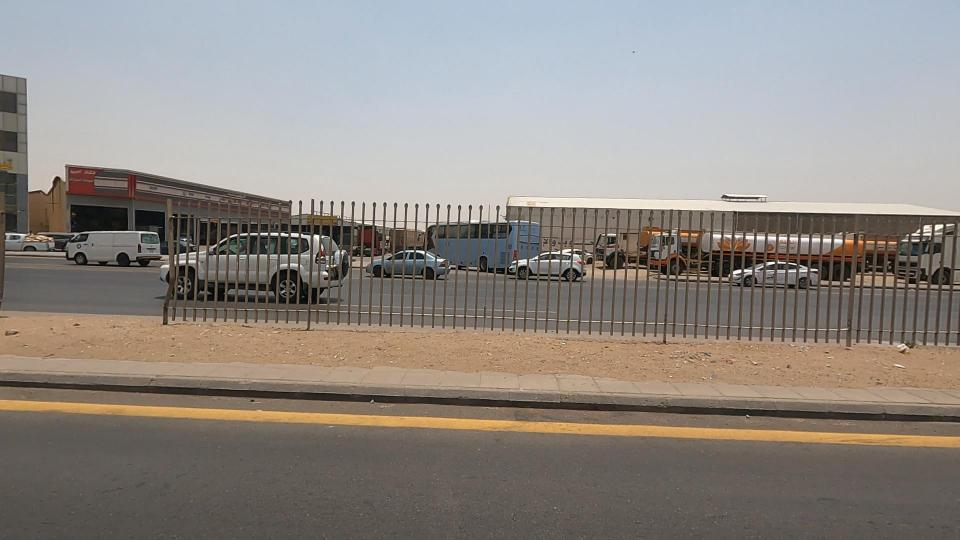GARBAGE: (877, 309, 931, 386)
